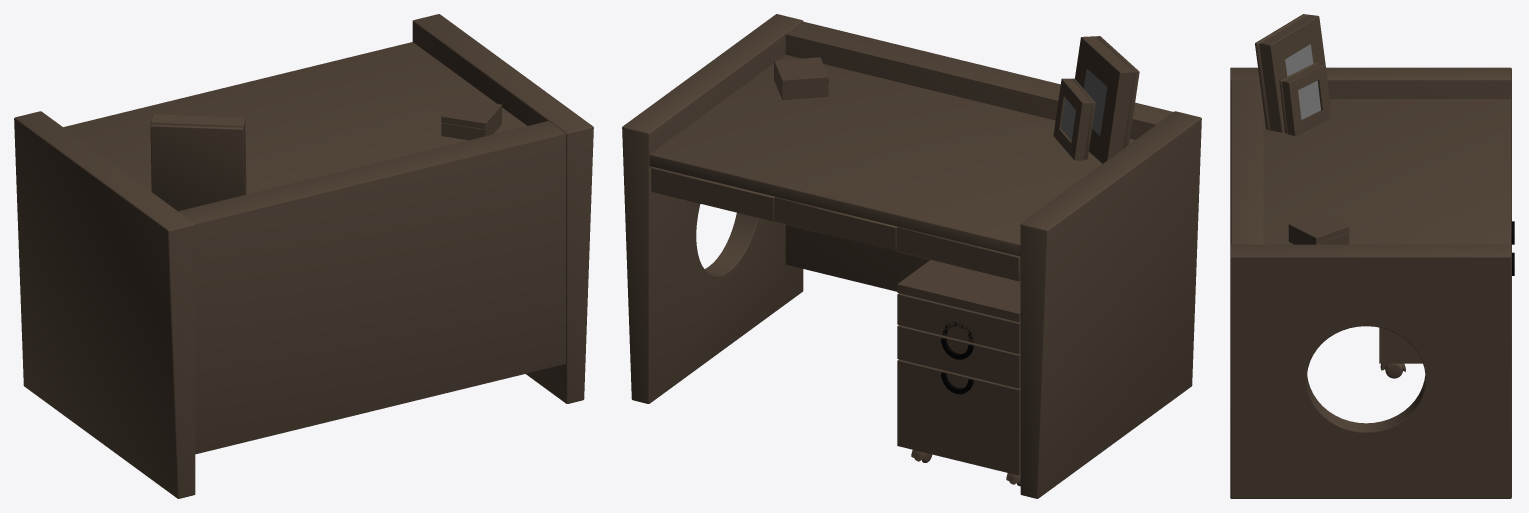
The model's file is black_table.FBX.
3 renders of one model, left to right at view 1: azimuth 30°, elevation 25°; view 2: azimuth 150°, elevation 25°; view 3: azimuth 270°, elevation 25°, orthographic. The views are drawn at different scales.
Visible parts, largest first — view 1: ChamferBox004, ChamferBox002, ChamferBox003, ChamferBox001, ChamferBox008, ChamferBox007; view 2: ChamferBox002, ChamferBox003, ChamferBox001, ChamferBox006, ChamferBox004, ChamferBox005, ChamferBox008, ChamferBox009, ChamferBox007; view 3: ChamferBox001, ChamferBox003, ChamferBox002, ChamferBox004, ChamferBox008, ChamferBox009, ChamferBox007, ChamferBox006.
Part boxes in pixels (x1=…): ChamferBox004: x1=178, y1=121, x2=565, y2=454; ChamferBox002: x1=14, y1=111, x2=195, y2=498; ChamferBox003: x1=63, y1=42, x2=526, y2=194; ChamferBox001: x1=412, y1=14, x2=593, y2=403; ChamferBox008: x1=150, y1=114, x2=246, y2=211; ChamferBox007: x1=441, y1=97, x2=501, y2=140; ChamferBox002: x1=1020, y1=111, x2=1201, y2=498; ChamferBox003: x1=649, y1=55, x2=1134, y2=256; ChamferBox001: x1=622, y1=14, x2=803, y2=403; ChamferBox006: x1=897, y1=260, x2=1020, y2=475; ChamferBox004: x1=785, y1=21, x2=1172, y2=291; ChamferBox005: x1=651, y1=167, x2=1020, y2=281; ChamferBox008: x1=1075, y1=36, x2=1139, y2=163; ChamferBox009: x1=1053, y1=78, x2=1095, y2=160; ChamferBox007: x1=774, y1=57, x2=828, y2=99; ChamferBox001: x1=1230, y1=244, x2=1511, y2=498; ChamferBox003: x1=1263, y1=99, x2=1511, y2=244; ChamferBox002: x1=1230, y1=67, x2=1511, y2=245; ChamferBox004: x1=1231, y1=80, x2=1263, y2=244; ChamferBox008: x1=1255, y1=14, x2=1330, y2=132; ChamferBox009: x1=1279, y1=63, x2=1330, y2=135; ChamferBox007: x1=1288, y1=212, x2=1349, y2=244; ChamferBox006: x1=1379, y1=162, x2=1511, y2=363.
Size of what is drawn, in the model's own units: 140 by 108 by 88.65.
